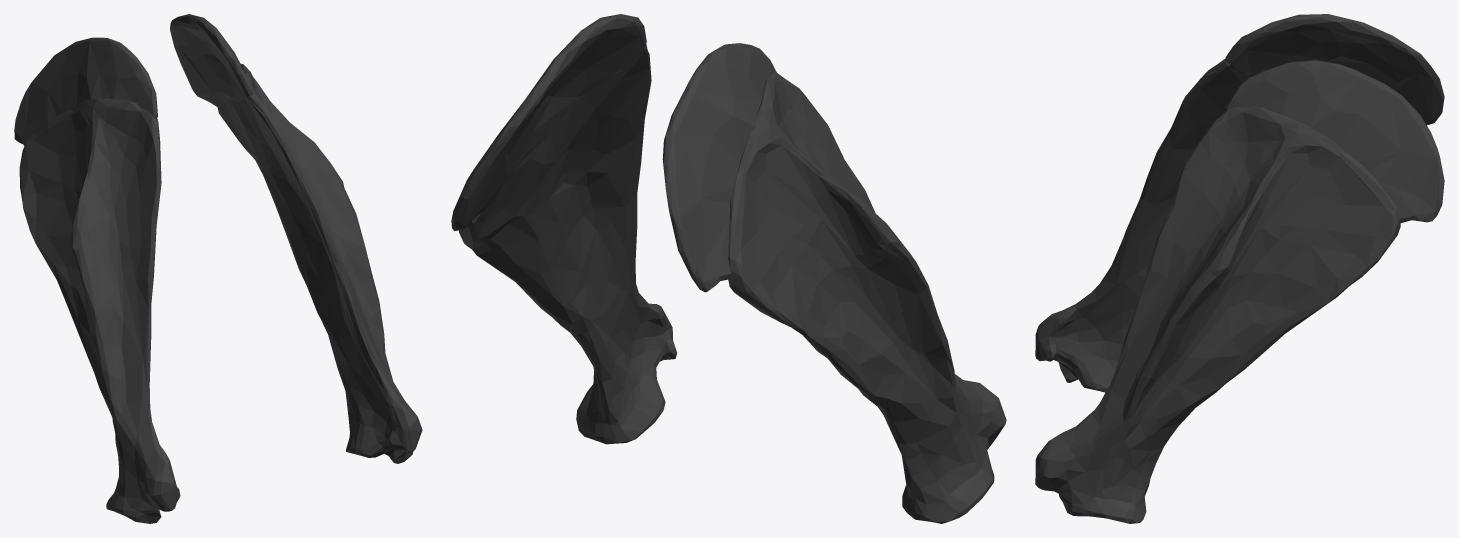
Rendered from skel_scapula.glb.
3 views of the same model, side by side, from view 1: azimuth 30°, elevation 25°; view 2: azimuth 150°, elevation 25°; view 3: azimuth 270°, elevation 25° (orthographic). The views are drawn at different scales.
Visible parts, largest first — view 1: skel_scapula; view 2: skel_scapula; view 3: skel_scapula.
Part boxes in pixels (x1=…): skel_scapula: x1=14, y1=14, x2=422, y2=523; skel_scapula: x1=451, y1=14, x2=1006, y2=523; skel_scapula: x1=1035, y1=14, x2=1444, y2=523.
Size of the model in its own units: 0.00533 by 0.00667 by 0.00594.
1 material, 1 textured.
